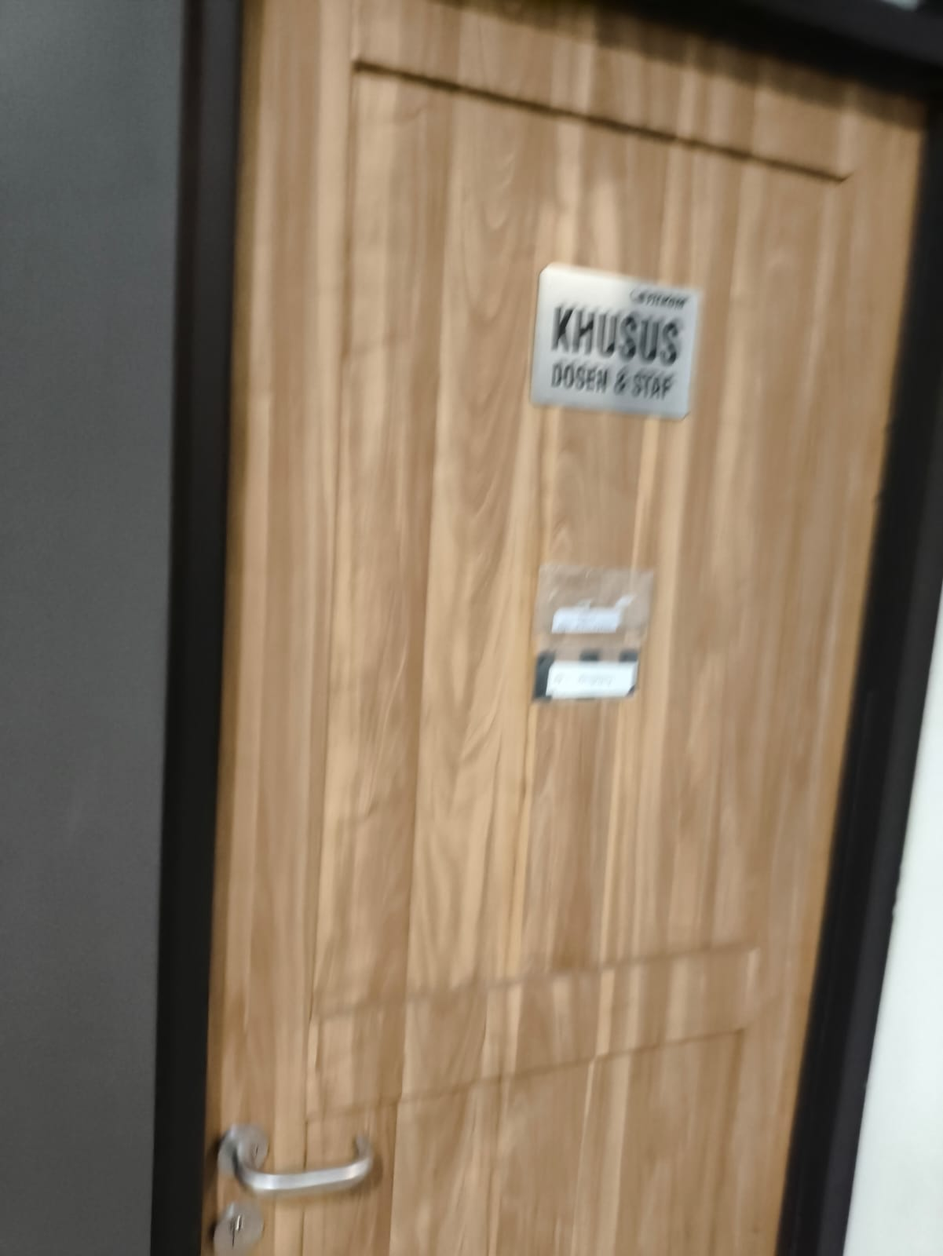ruang khusus dosen dan staff: (531, 259, 702, 423)
